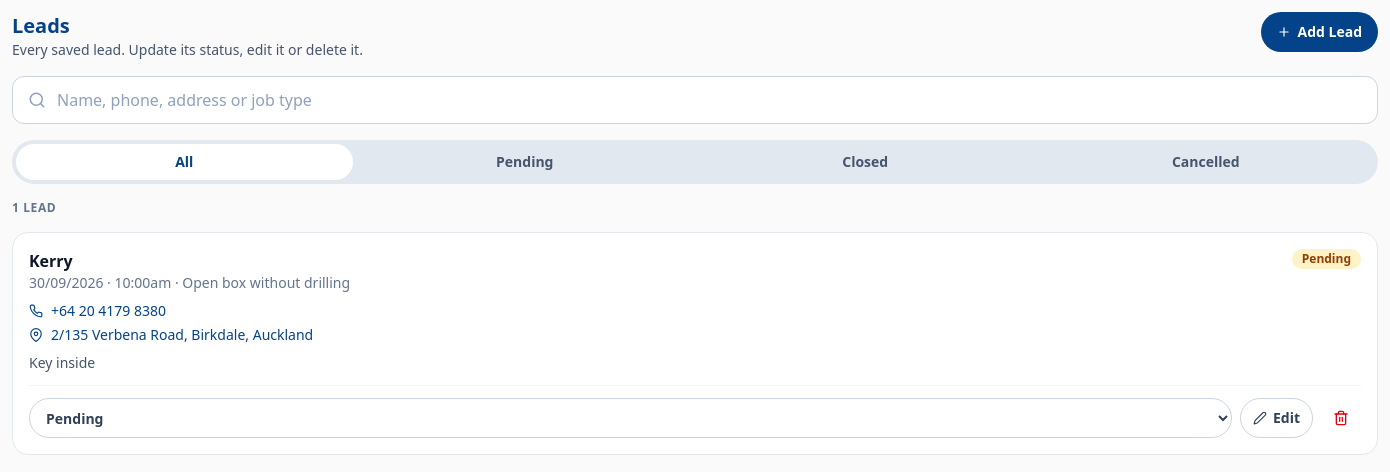
LeadHistory › deletes a lead after confirming
Click the button named "Delete Kerry" at (1341, 418), box [1321,398,1361,438]
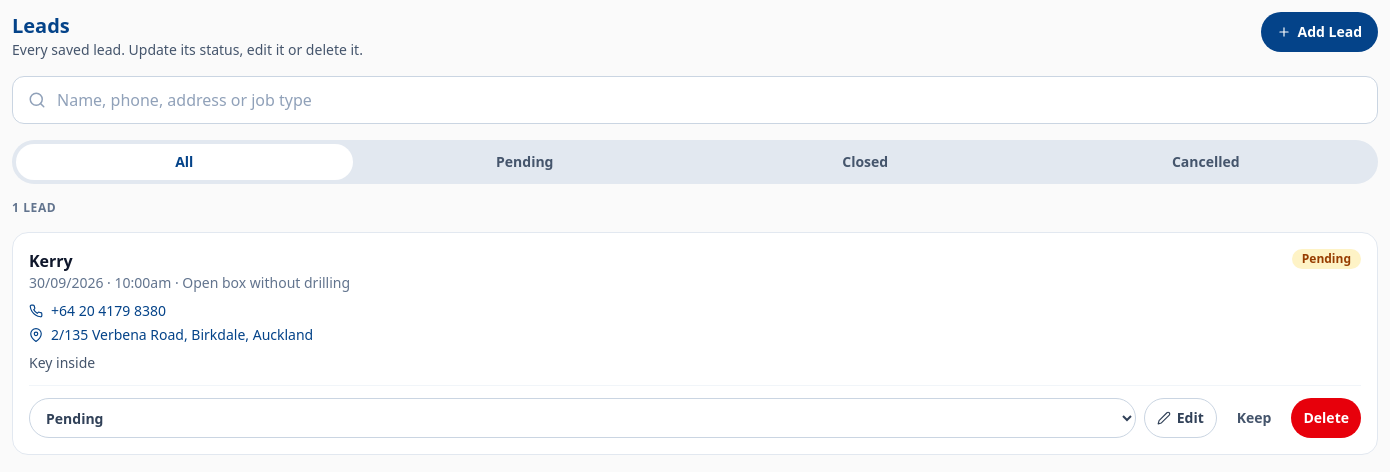
Click the button "Delete" at (1326, 418), box [1292,398,1361,438]
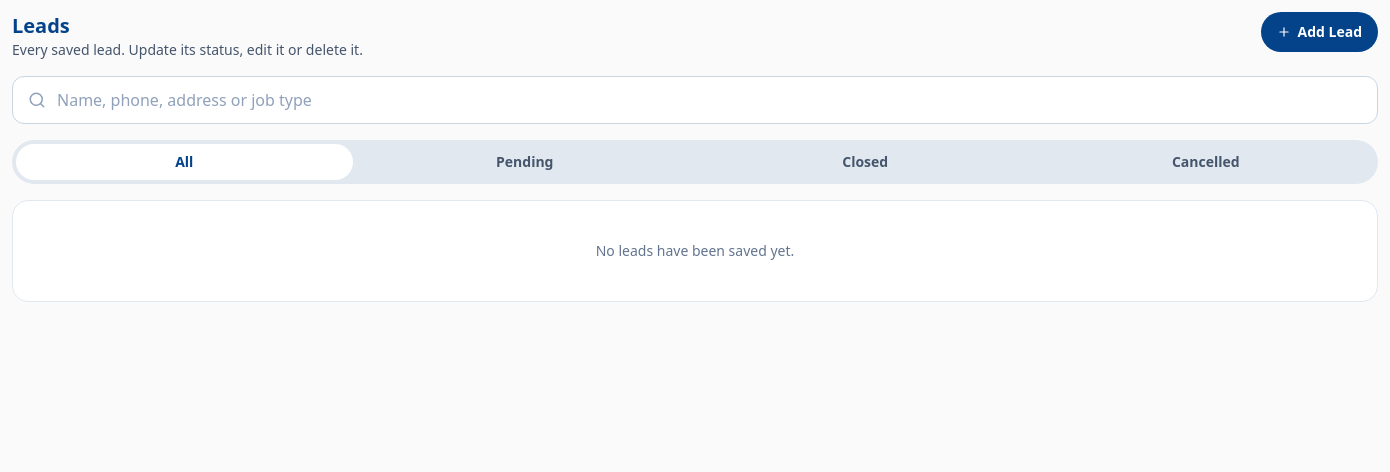
Expected: the text "Kerry" is gone
